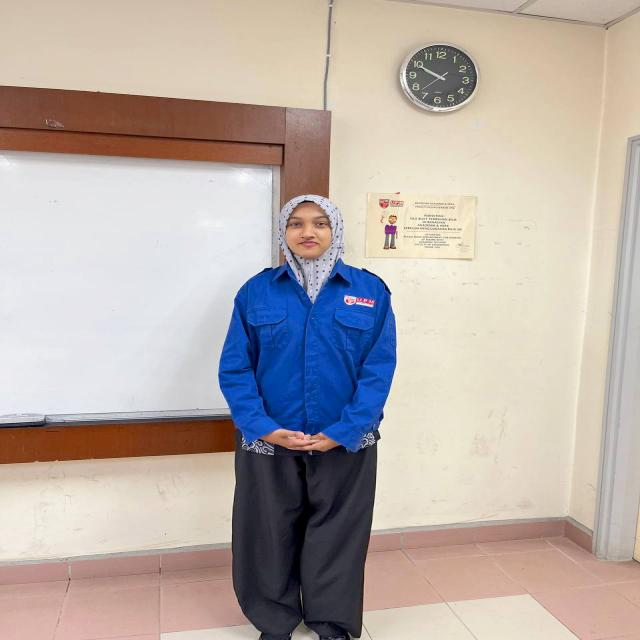person_with_labcoat: (219, 194, 396, 640)
